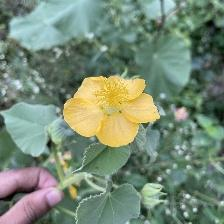indian mallow: (60, 72, 164, 149)
